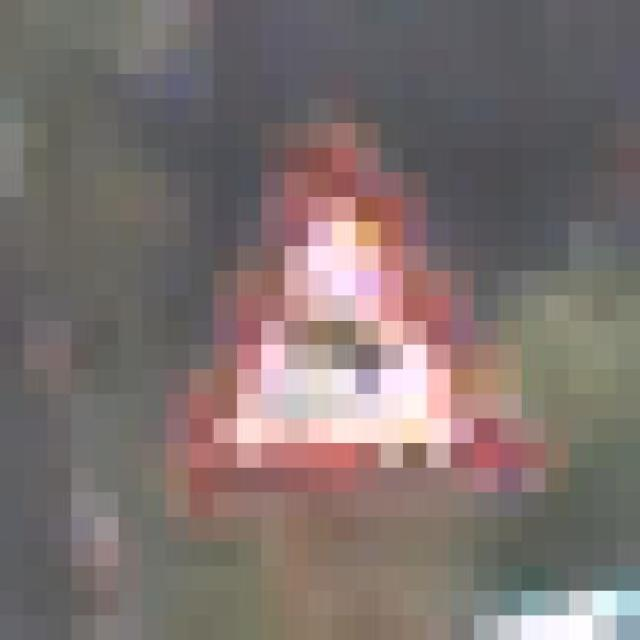Slippery Road Ahead: (144, 97, 547, 515)
